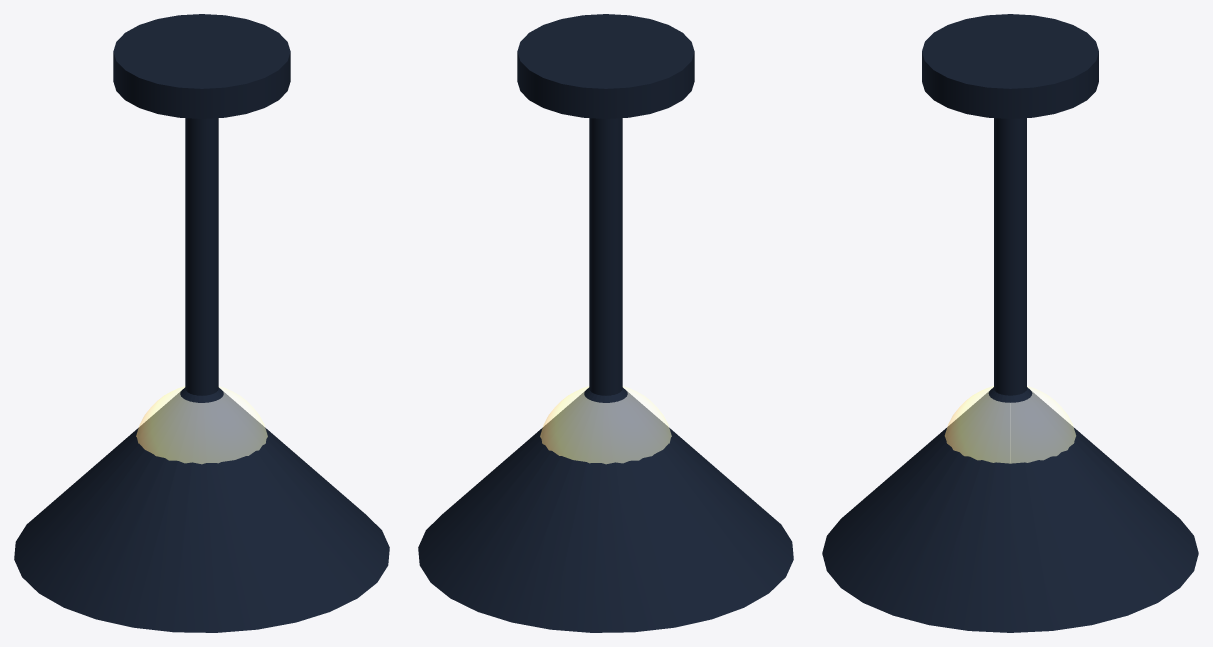
The model's file is light-pendant.glb.
3 renders of one model, left to right at view 1: azimuth 30°, elevation 25°; view 2: azimuth 150°, elevation 25°; view 3: azimuth 270°, elevation 25°, orthographic.
Visible parts, largest first — view 1: shade, Pendant light, glass bulb; view 2: shade, Pendant light, glass bulb; view 3: shade, Pendant light, glass bulb.
Boxes of the visible parts, left/top/right/bottom form: shade: left=14, top=387, right=389, bottom=632; Pendant light: left=113, top=14, right=290, bottom=395; glass bulb: left=136, top=386, right=267, bottom=464; shade: left=418, top=387, right=793, bottom=632; Pendant light: left=517, top=14, right=694, bottom=395; glass bulb: left=540, top=386, right=671, bottom=464; shade: left=822, top=387, right=1198, bottom=632; Pendant light: left=922, top=14, right=1098, bottom=395; glass bulb: left=945, top=386, right=1075, bottom=463.
Size of the model in its own units: 1.36 by 2.26 by 1.36.
